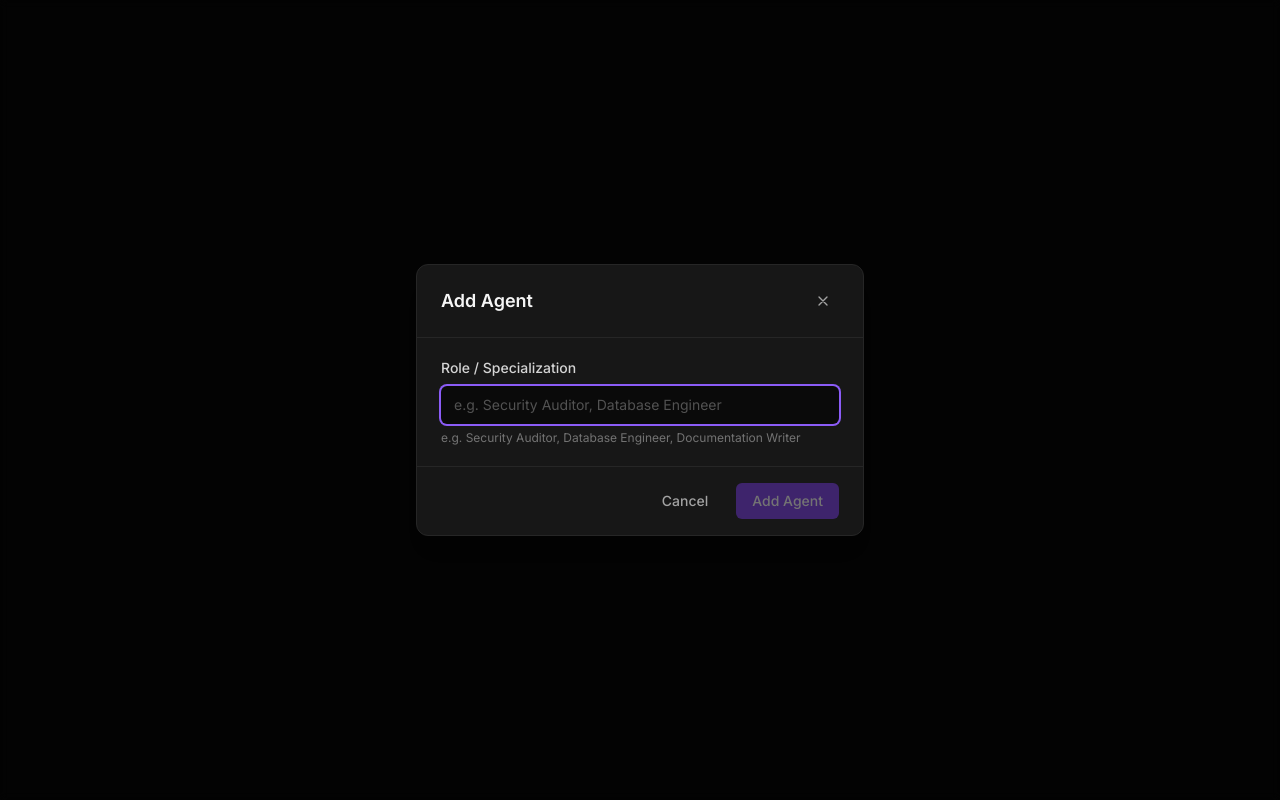
AddAgentModal › submit button becomes enabled when 2+ character input is entered
The width and height of the screenshot is (1280, 800).
Type "AB" into the field.
click(640, 405); type("AB")  # box [441,386,839,424]
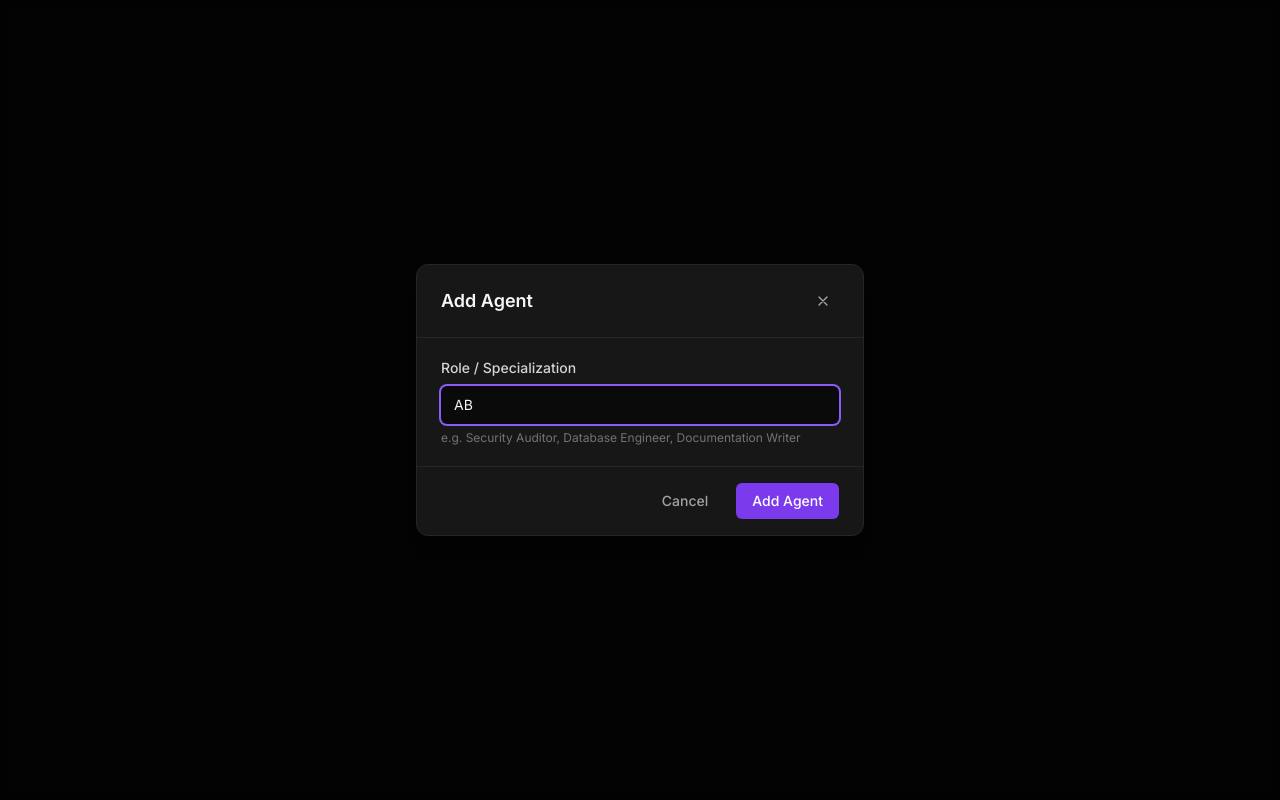
Expected: the button "Add Agent" is enabled, [736,483,839,519]
